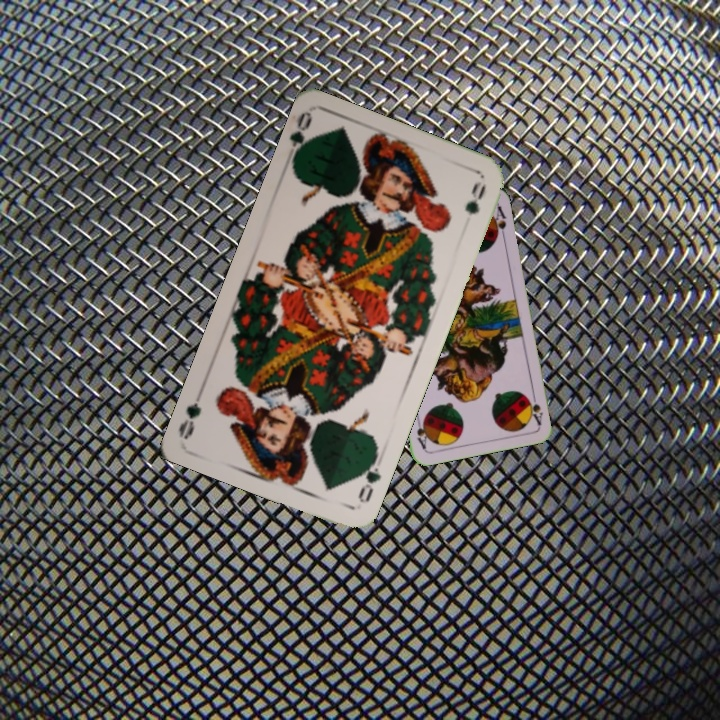GO: (286, 110, 316, 170), (354, 450, 384, 506)
SA: (525, 387, 545, 427)
